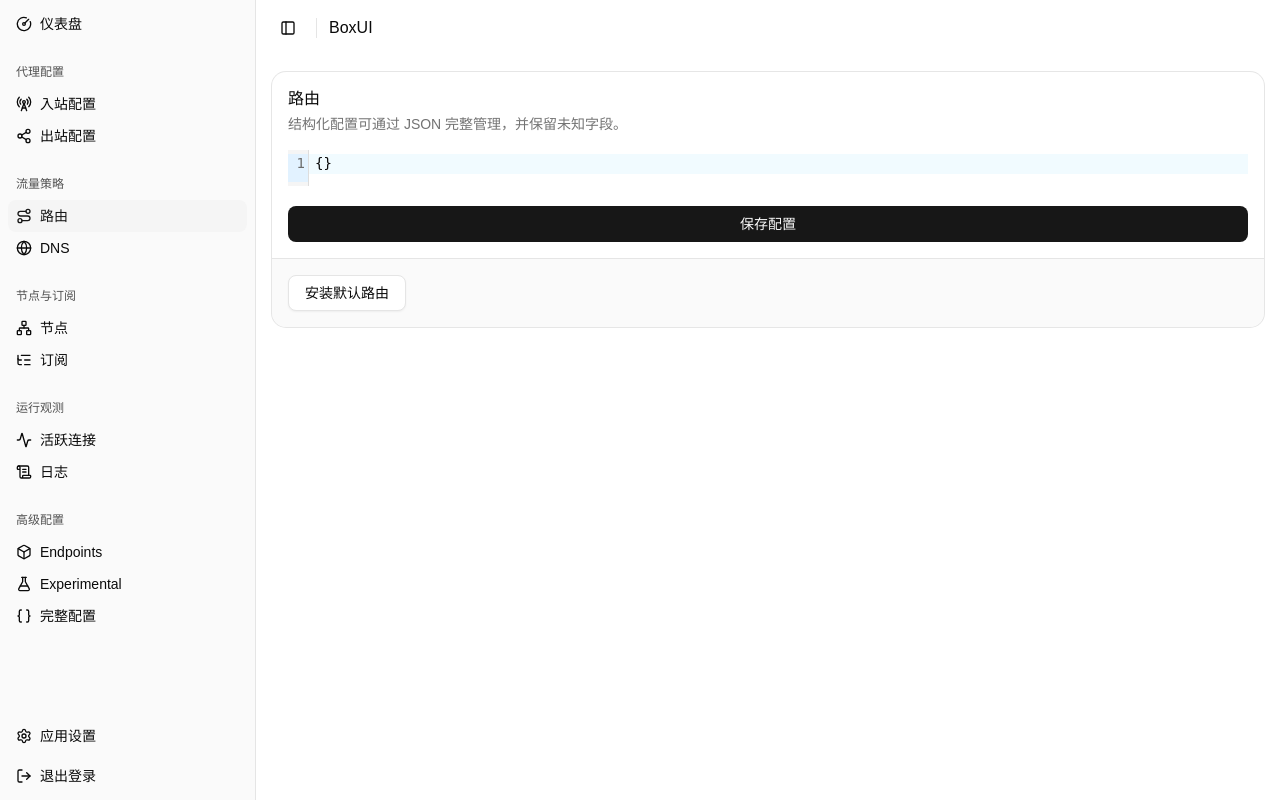
Test: policy save and rollback states › reports policy save failures
This screenshot has width=1280, height=800.
Click the button "保存配置". click: point(768, 224)
box: [288,206,1248,242]
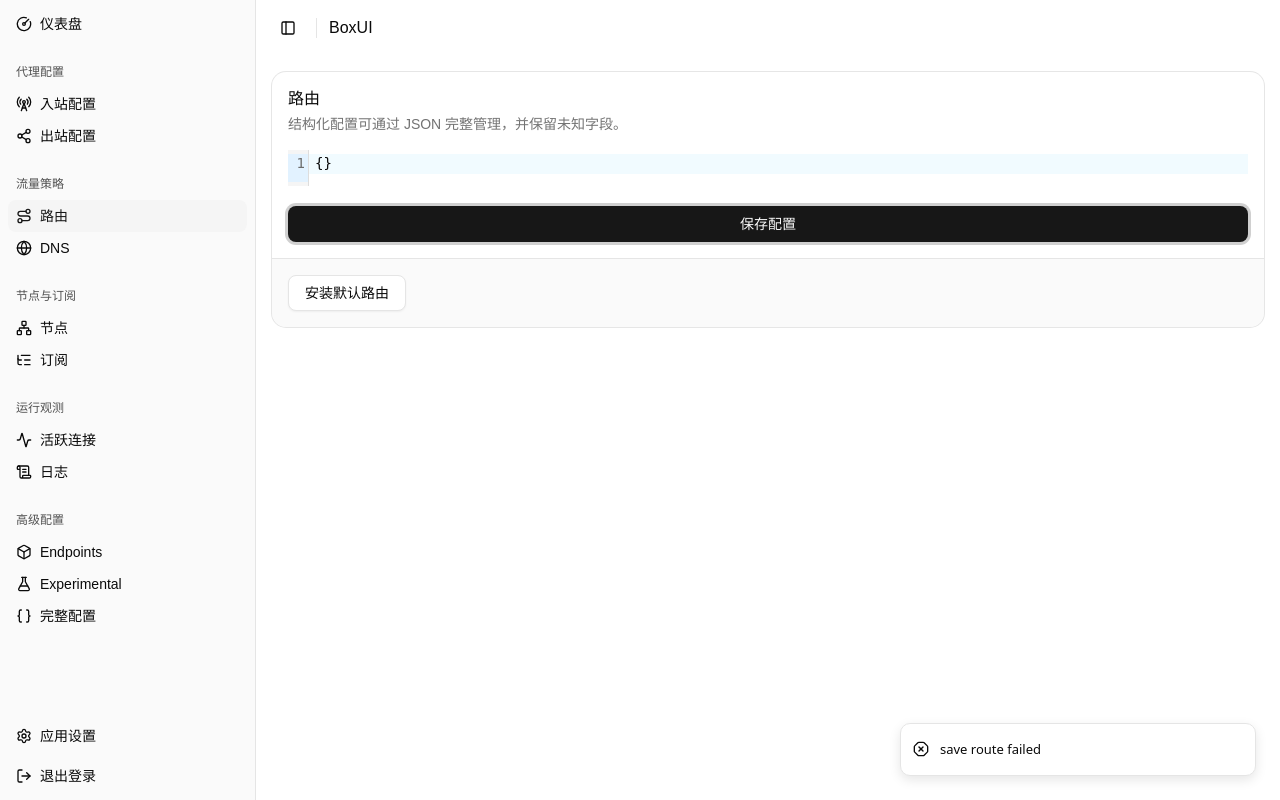
expect the text "save route failed" is shown: met, box [940,740,1041,759]
